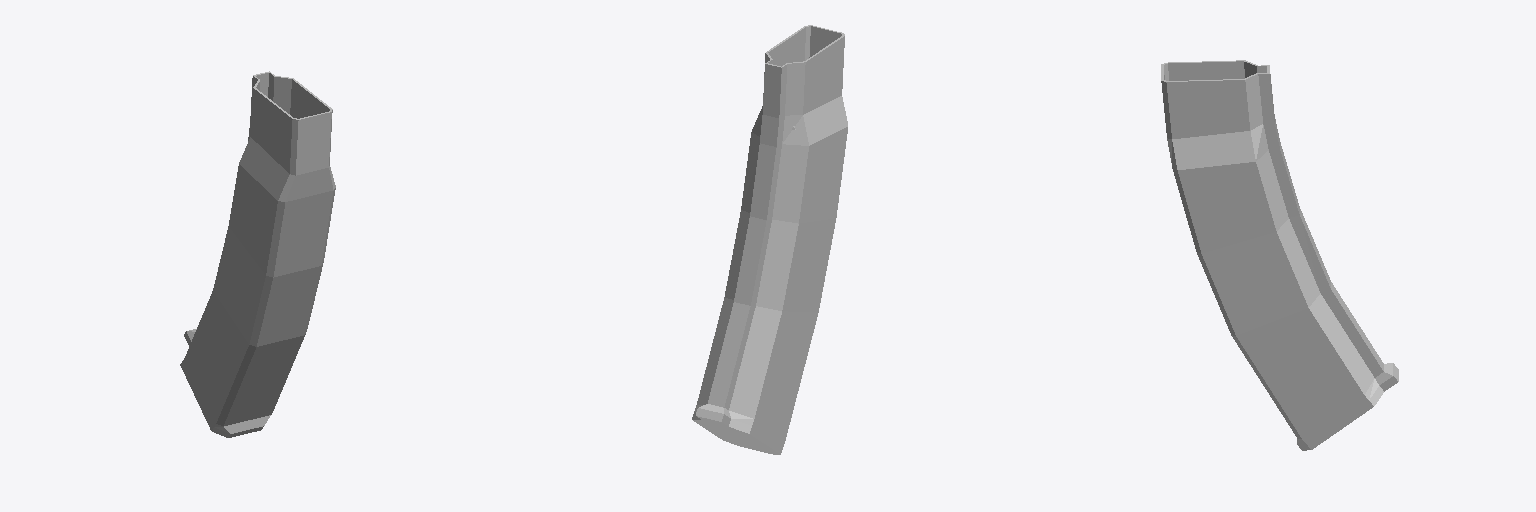
Rendered from Mag3.obj.
The picture shows the model from 3 angles: view 1: azimuth 30°, elevation 25°; view 2: azimuth 150°, elevation 25°; view 3: azimuth 270°, elevation 25°; orthographic projection.
Visible parts, largest first — view 1: Cube.007_Cube.002; view 2: Cube.007_Cube.002; view 3: Cube.007_Cube.002.
Boxes of the visible parts, x1=… form: Cube.007_Cube.002: x1=180, y1=71, x2=335, y2=437; Cube.007_Cube.002: x1=692, y1=25, x2=847, y2=454; Cube.007_Cube.002: x1=1161, y1=60, x2=1398, y2=450.
Size of the model in its own units: 0.0625 by 0.3809 by 0.2198.